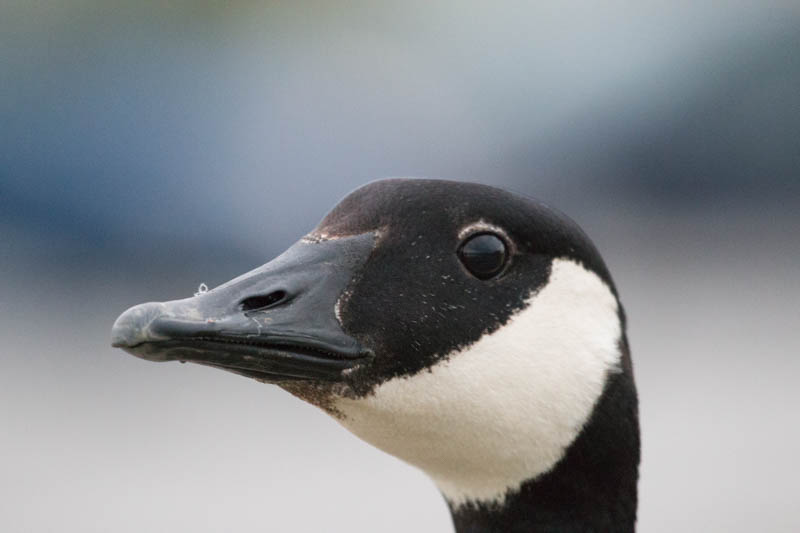goose-head: (107, 177, 640, 509)
